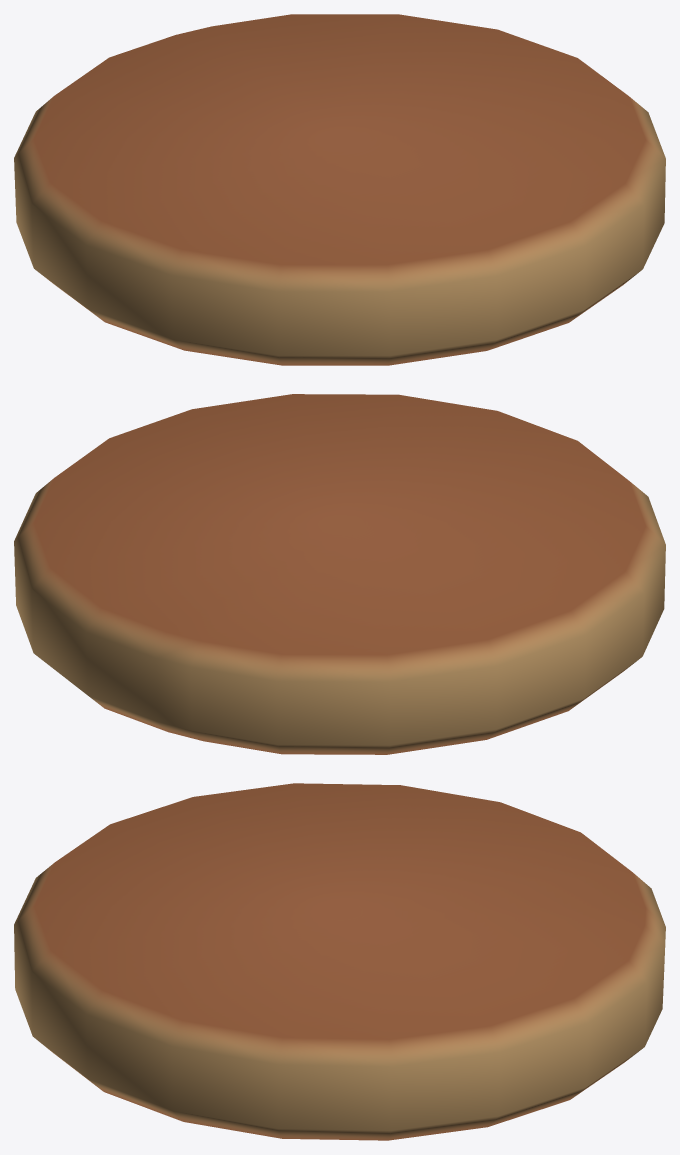
The model's file is consumables-junkfood-pancake_v2.glb.
3 views of the same model, one above another, from view 1: azimuth 30°, elevation 25°; view 2: azimuth 150°, elevation 25°; view 3: azimuth 270°, elevation 25° (orthographic).
Parts seen in each view (by area): view 1: Pancake_v2; view 2: Pancake_v2; view 3: Pancake_v2.
Boxes of the visible parts, left/top/right/bottom form: Pancake_v2: left=14, top=14, right=665, bottom=365; Pancake_v2: left=14, top=394, right=665, bottom=754; Pancake_v2: left=14, top=783, right=665, bottom=1140.
Bounding box in the file's own units: 0.0996 × 0.0184 × 0.1003.
